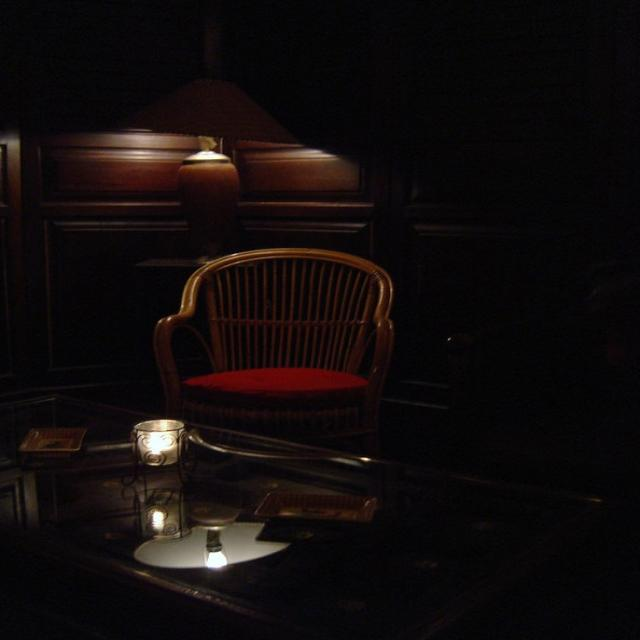Cup: (119, 402, 200, 486)
Table: (11, 412, 640, 640)
chair: (141, 233, 393, 440)
